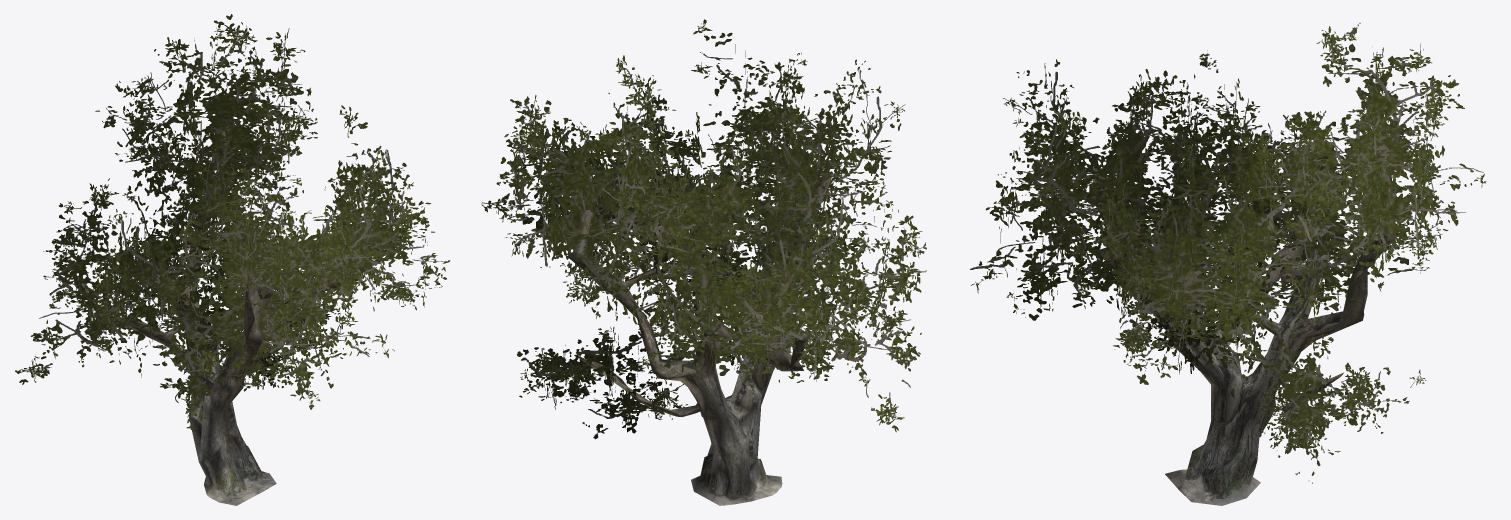
Rendered from island_tree_01.glb.
3 renders of one model, left to right at view 1: azimuth 30°, elevation 25°; view 2: azimuth 150°, elevation 25°; view 3: azimuth 270°, elevation 25°, orthographic. The views are drawn at different scales.
Visible parts, largest first — view 1: foliage, island_tree_01_LOD0 (×2); view 2: foliage, island_tree_01_LOD0 (×2); view 3: foliage, island_tree_01_LOD0 (×2).
Part boxes in pixels (x1,y1,x2,y2): foliage: (15, 14, 450, 433); island_tree_01_LOD0 (×2): (74, 128, 363, 505); foliage: (481, 19, 926, 439); island_tree_01_LOD0 (×2): (567, 171, 833, 505); foliage: (970, 23, 1486, 483); island_tree_01_LOD0 (×2): (1090, 166, 1396, 505).
Bounding box in the file's own units: 4.75 × 5.02 × 4.91.
Materials: 2 (2 with a texture image).
